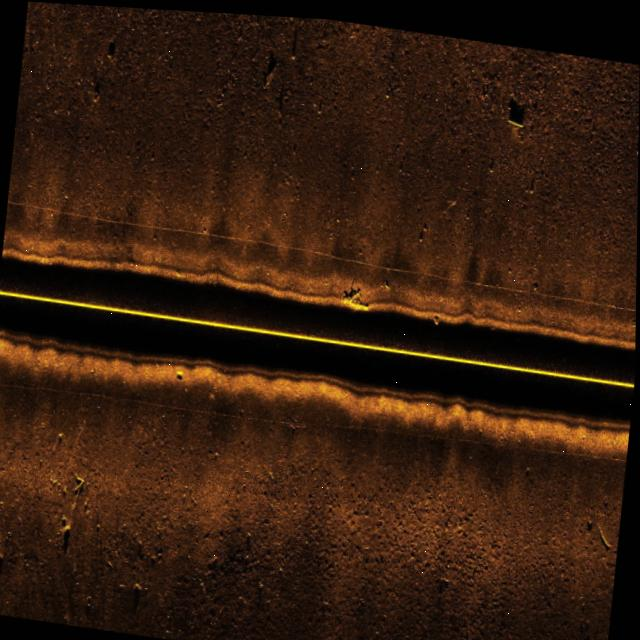mine: (504, 86, 527, 123), (59, 511, 73, 532), (172, 365, 185, 380)
other: (337, 281, 374, 310), (0, 543, 8, 575), (90, 85, 102, 102)
